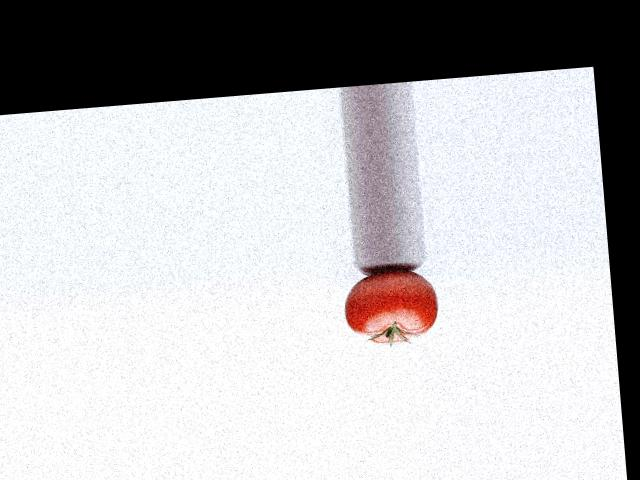tomato: (341, 267, 440, 346)
